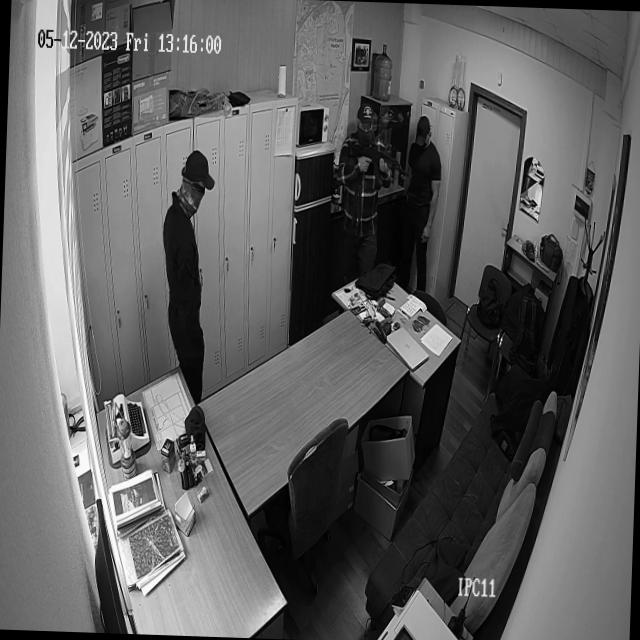gun: (348, 144, 413, 186)
person: (158, 150, 210, 405), (399, 110, 443, 306)
person with a gun: (332, 100, 417, 287)
